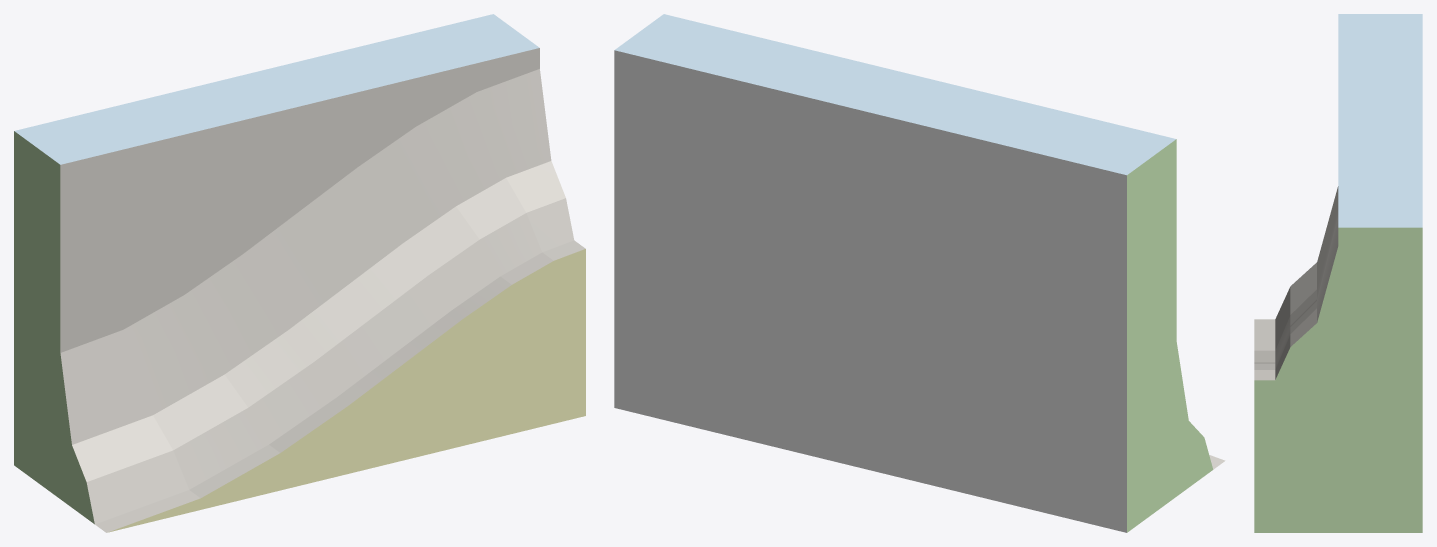
Rendered from Wall_Incline_2x6_Base.fbx.
The picture shows the model from 3 angles, left to right: view 1: azimuth 30°, elevation 25°; view 2: azimuth 150°, elevation 25°; view 3: azimuth 270°, elevation 25°; orthographic projection. The views are drawn at different scales.
Parts seen in each view (by area): view 1: Wall_Incline_2x6_Base; view 2: Wall_Incline_2x6_Base; view 3: Wall_Incline_2x6_Base.
Boxes of the visible parts, x1,y1,x2,y2 form: Wall_Incline_2x6_Base: (14, 14, 585, 532); Wall_Incline_2x6_Base: (614, 14, 1225, 532); Wall_Incline_2x6_Base: (1254, 14, 1422, 532).
Size of the model in its own units: 600 by 400 by 200.
